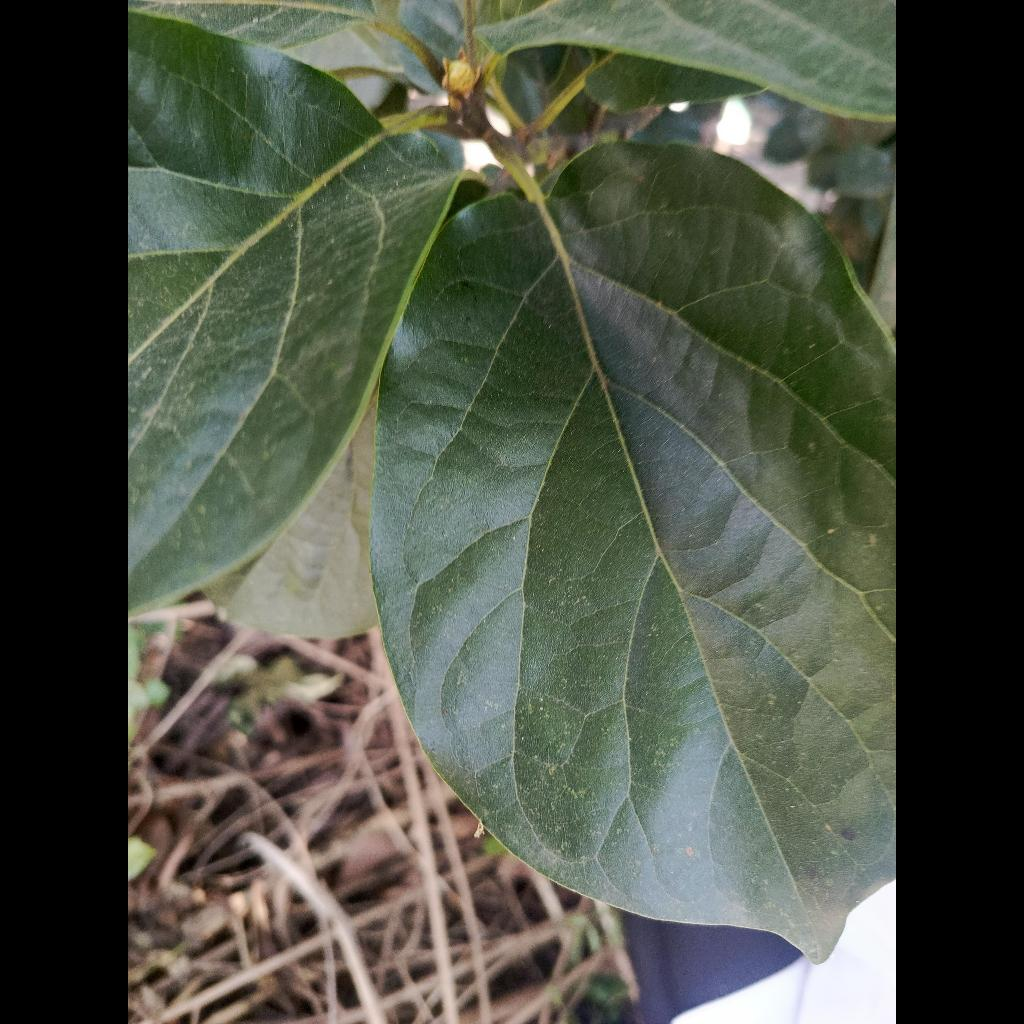Healthy: (371, 143, 896, 959)
